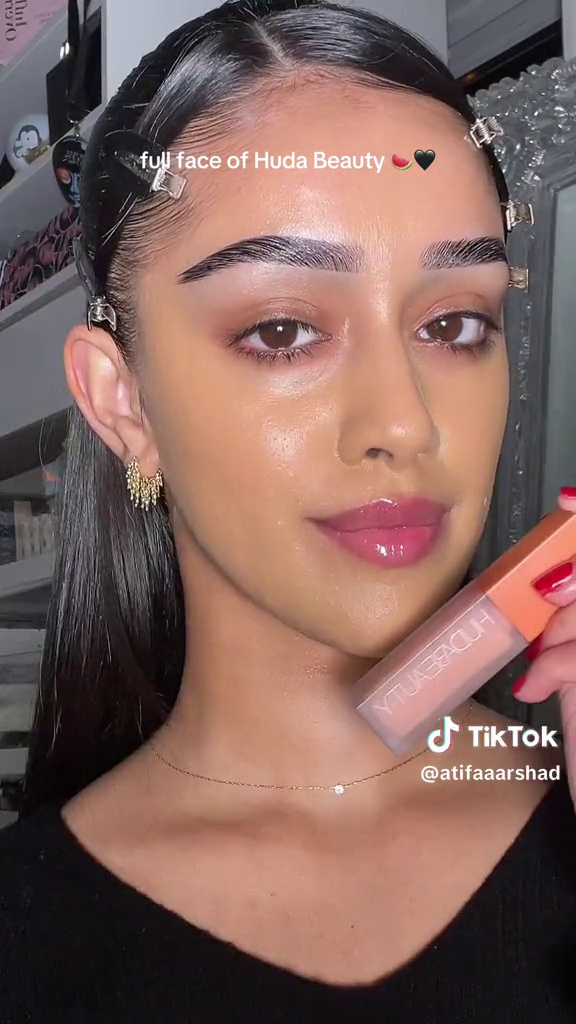train' :'yolo_data/train/images',: (329, 490, 575, 773)
